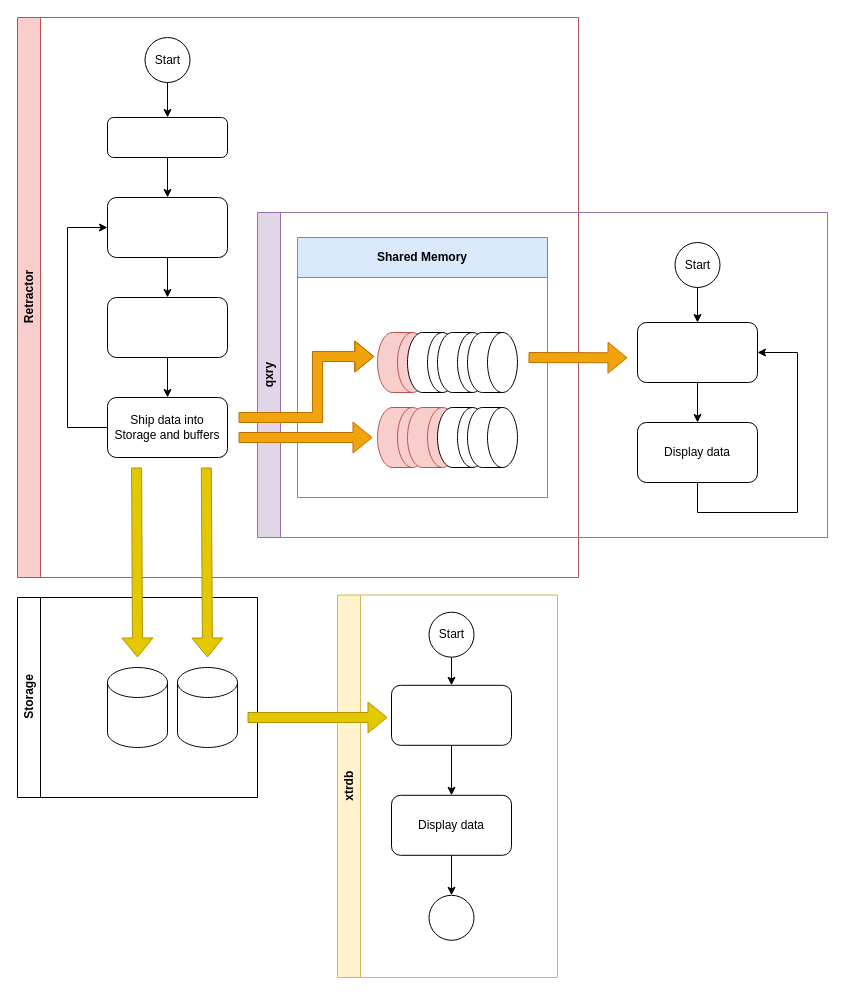
The diagram is 845 pixels wide and 995 high, and some of its shapes have lost their labels. Each missing label, with the centre of its shape:
building data from query schemas: point (167, 327)
Compile Query: point (167, 137)
Read data from Shared Memory: point (697, 352)
Read data from Sources: point (167, 227)
Read data from Storage: point (451, 714)
Stop: point (451, 917)
